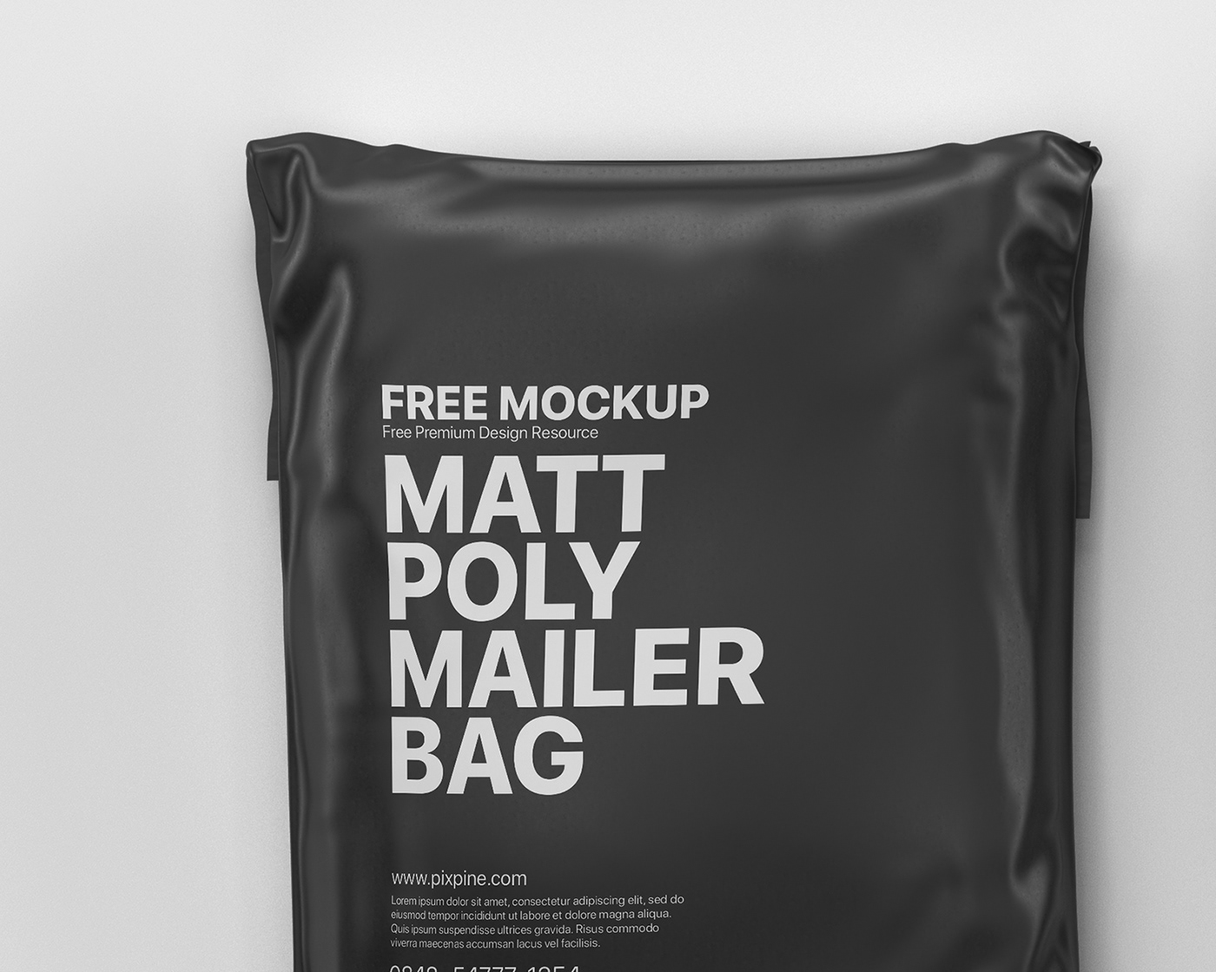Parcel: (248, 133, 1100, 969)
